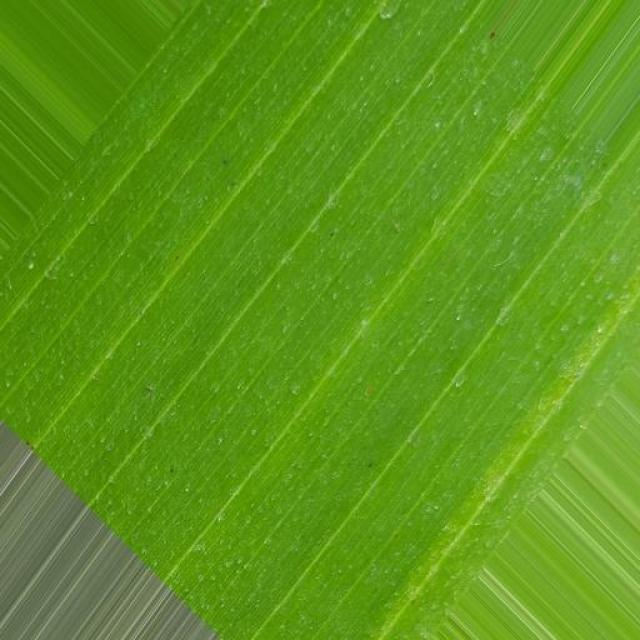Black_leaf_spot: (27, 3, 640, 618)
